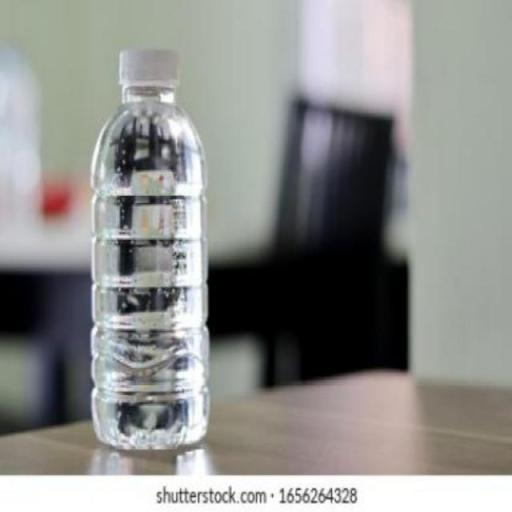Coca: (84, 39, 217, 460)
